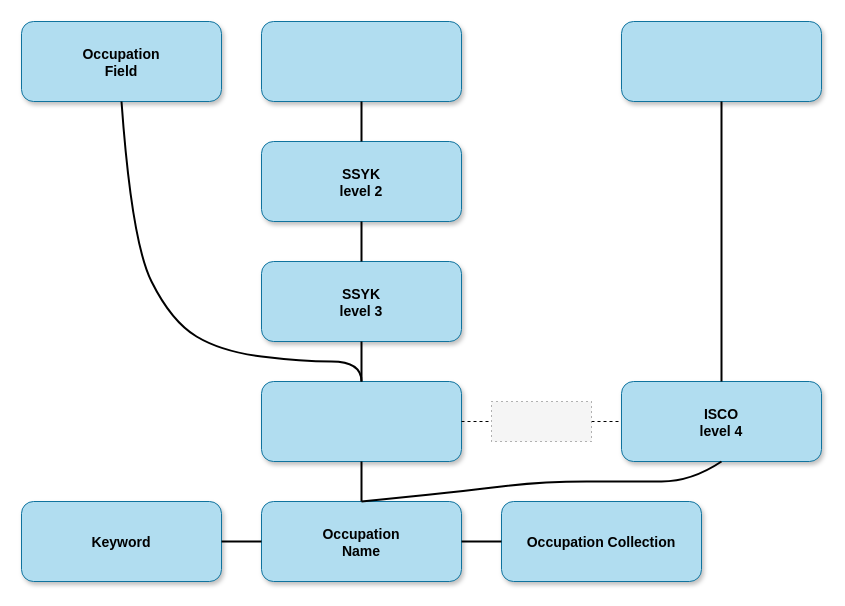
Image size: 845x606. Some labels were removed from this diagram. Here are the shapes that lost their labels. From the top down, the centre of each, then its label:
the point at 362,62: SSYK level 1
the point at 722,62: ISCO level 1
the point at 362,422: SSYK level 4
the point at 541,421: Somewhat overlapping
